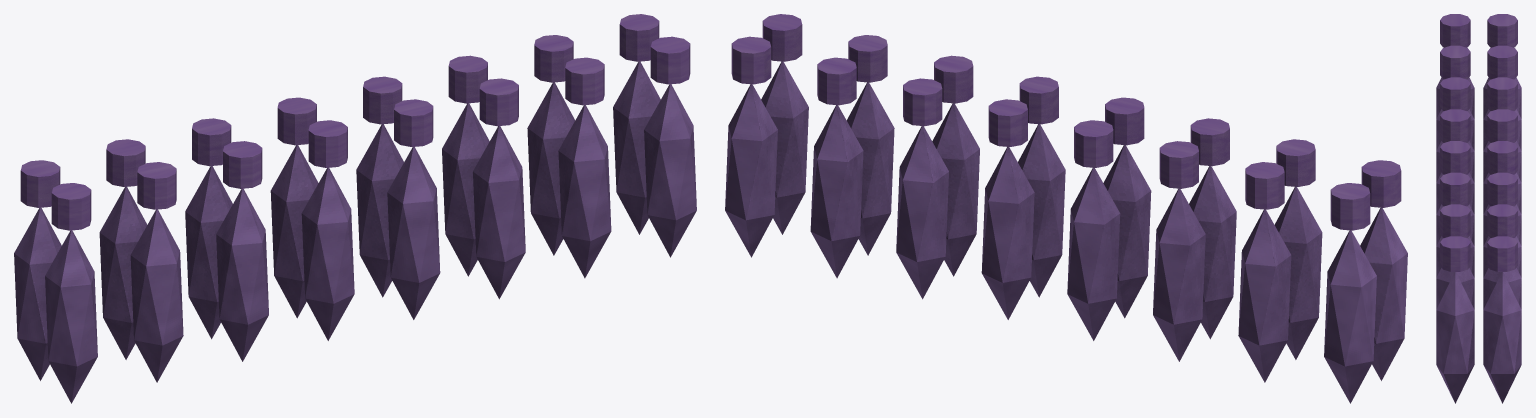
Rendered from base_crop_shine_var.glb.
3 renders of one model, left to right at view 1: azimuth 30°, elevation 25°; view 2: azimuth 150°, elevation 25°; view 3: azimuth 270°, elevation 25°, orthographic. The views are drawn at different scales.
Parts seen in each view (by area): view 1: base_crop_shine_var; view 2: base_crop_shine_var; view 3: base_crop_shine_var.
Boxes of the visible parts, <box> form: base_crop_shine_var: <box>14,14,696,403</box>; base_crop_shine_var: <box>725,14,1407,403</box>; base_crop_shine_var: <box>1436,14,1521,403</box>.
Size of the model in its own units: 4.81 by 1.51 by 0.7266.
2 materials, 2 textured.
